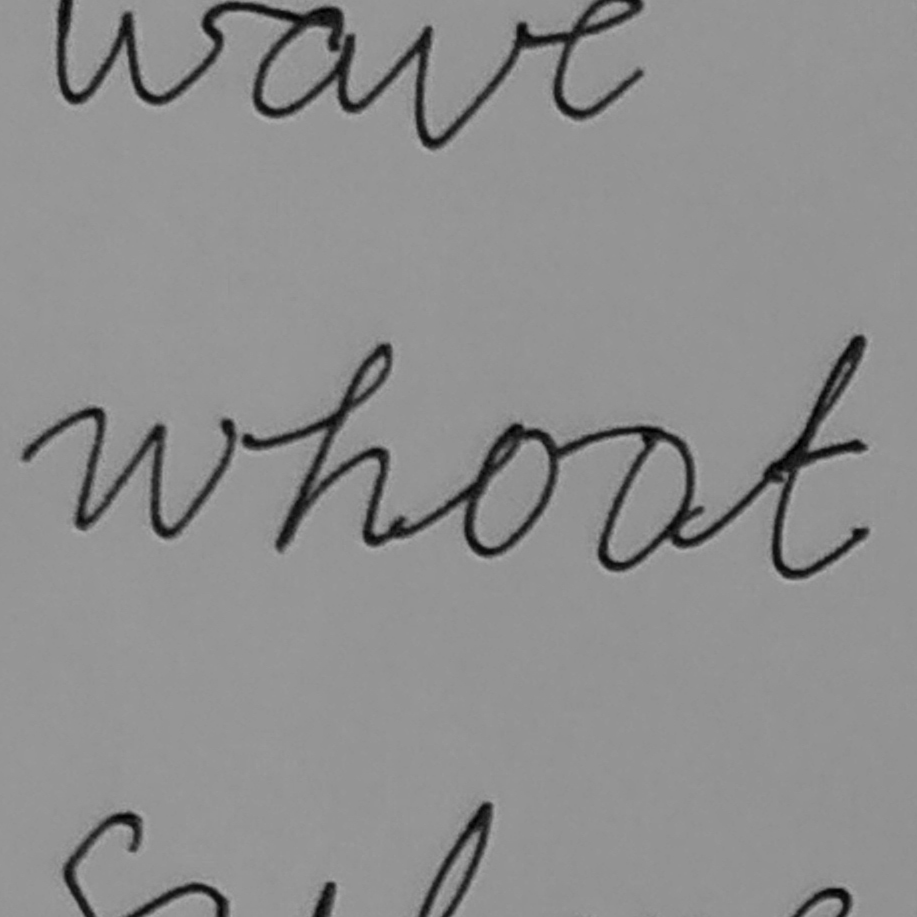h: (269, 339, 404, 557)
o: (593, 425, 699, 573), (459, 417, 562, 562)
t: (762, 331, 875, 582)
w: (67, 402, 240, 546)
